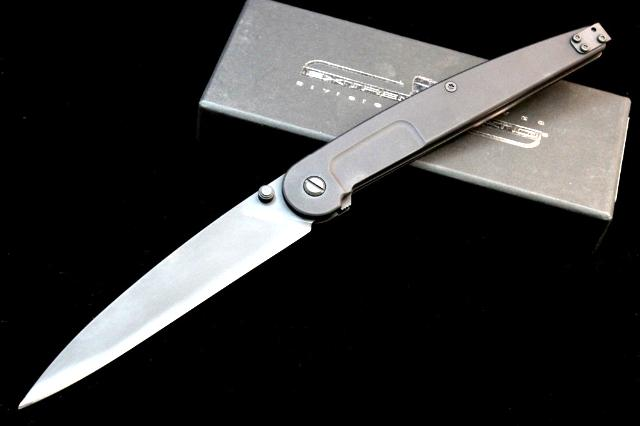pocket-knife: (13, 22, 620, 418)
